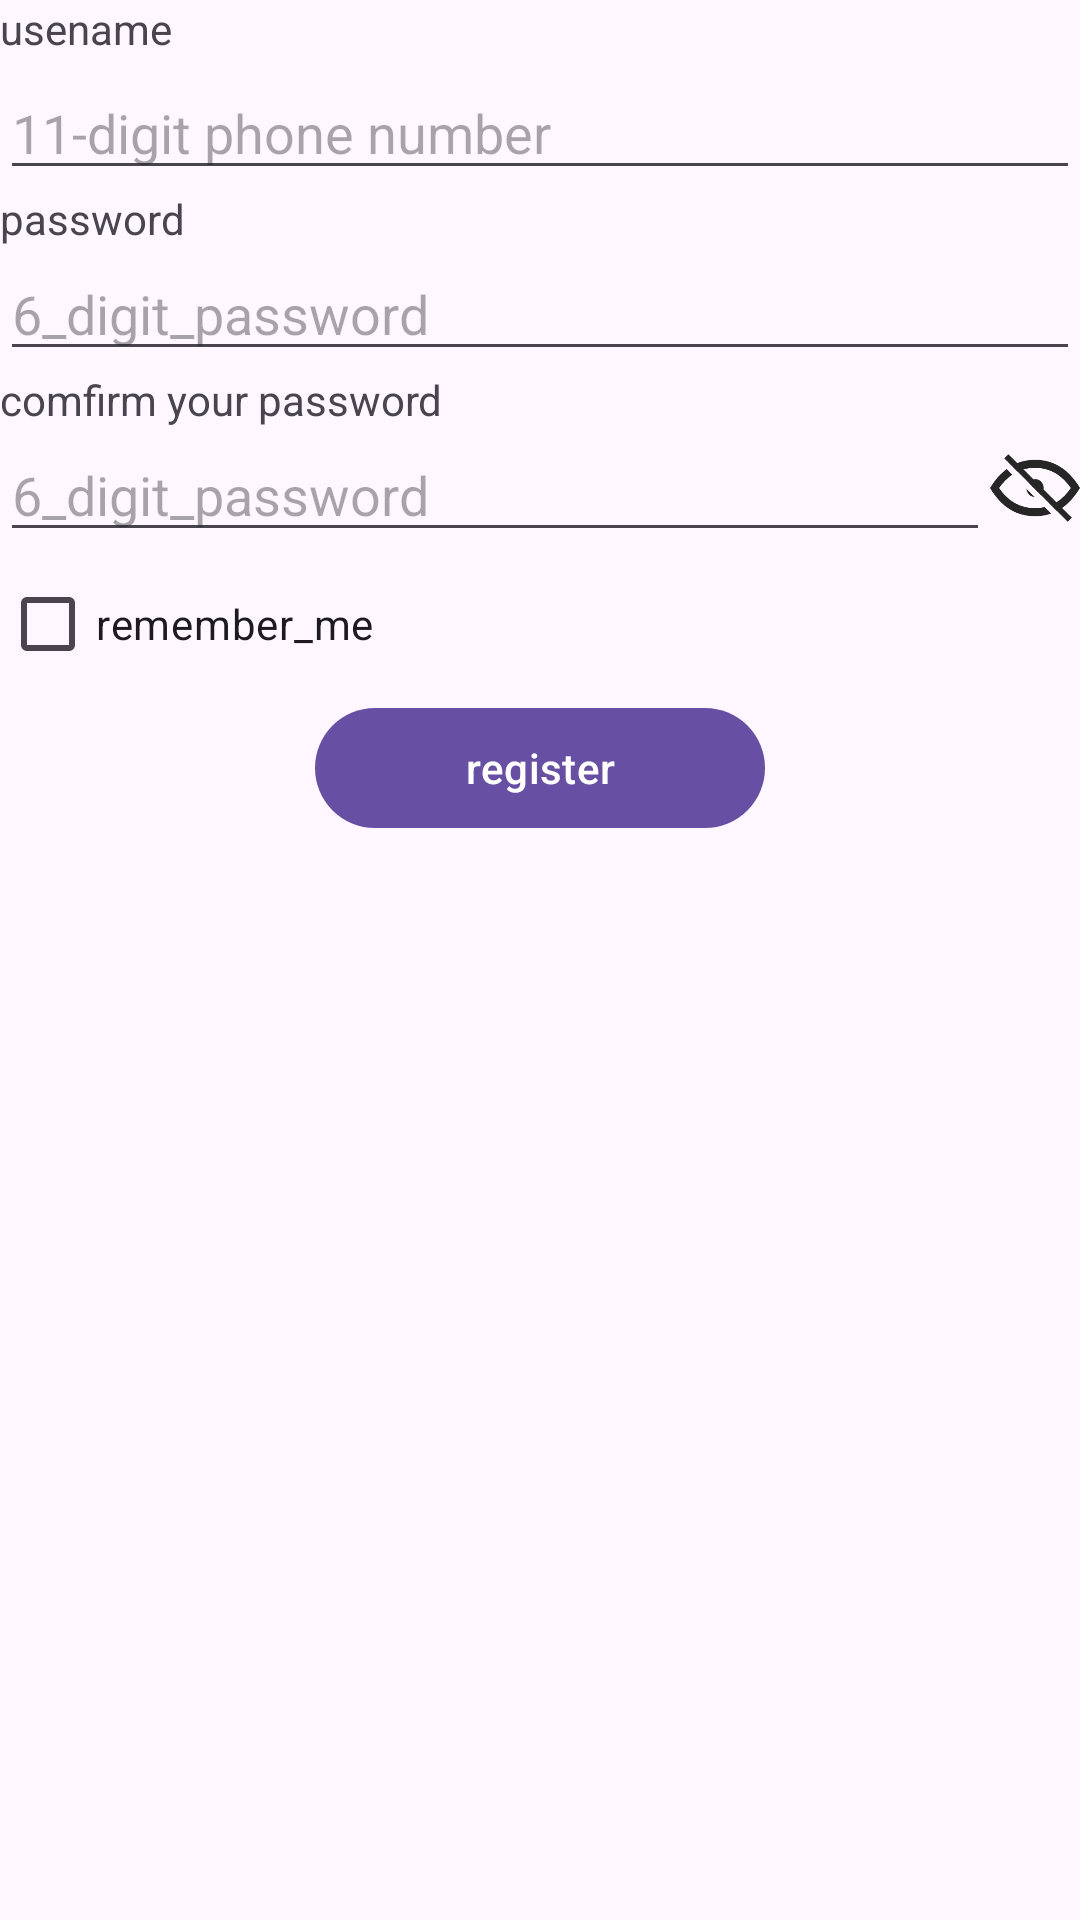

Point at icon controls on the screen. Image size 1080px×1920px, points as (x=x, y=y).
Toggle password visibility: (x=1035, y=488)
